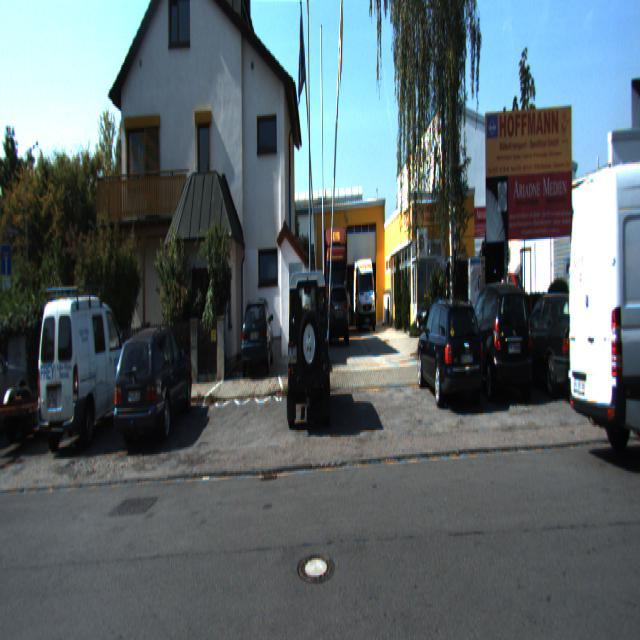Car: (562, 144, 640, 469), (36, 284, 137, 453), (508, 292, 608, 403), (111, 321, 192, 450), (458, 280, 538, 408), (0, 362, 95, 462), (415, 296, 488, 416), (285, 270, 332, 437), (0, 329, 37, 438), (240, 294, 274, 376), (324, 223, 348, 337), (352, 250, 376, 330), (330, 280, 350, 345)
